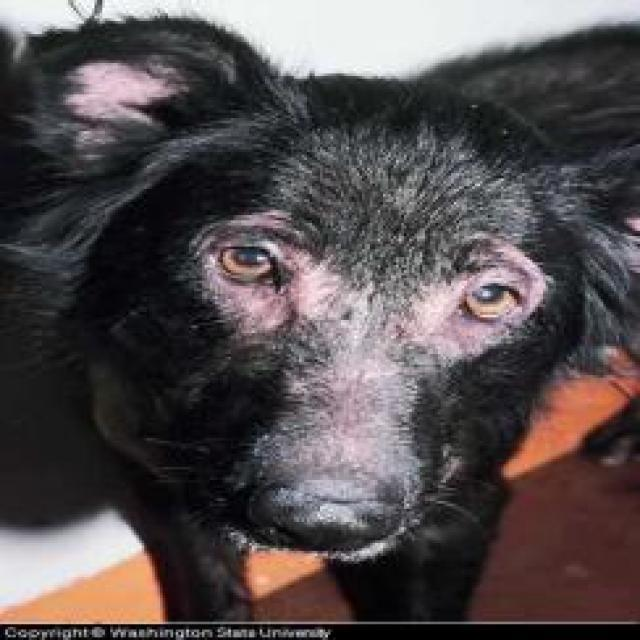allergic dermatitis: (196, 282, 330, 342), (286, 235, 345, 329), (310, 388, 375, 473), (437, 234, 536, 287), (207, 196, 298, 241), (416, 271, 454, 362), (444, 321, 522, 359)
